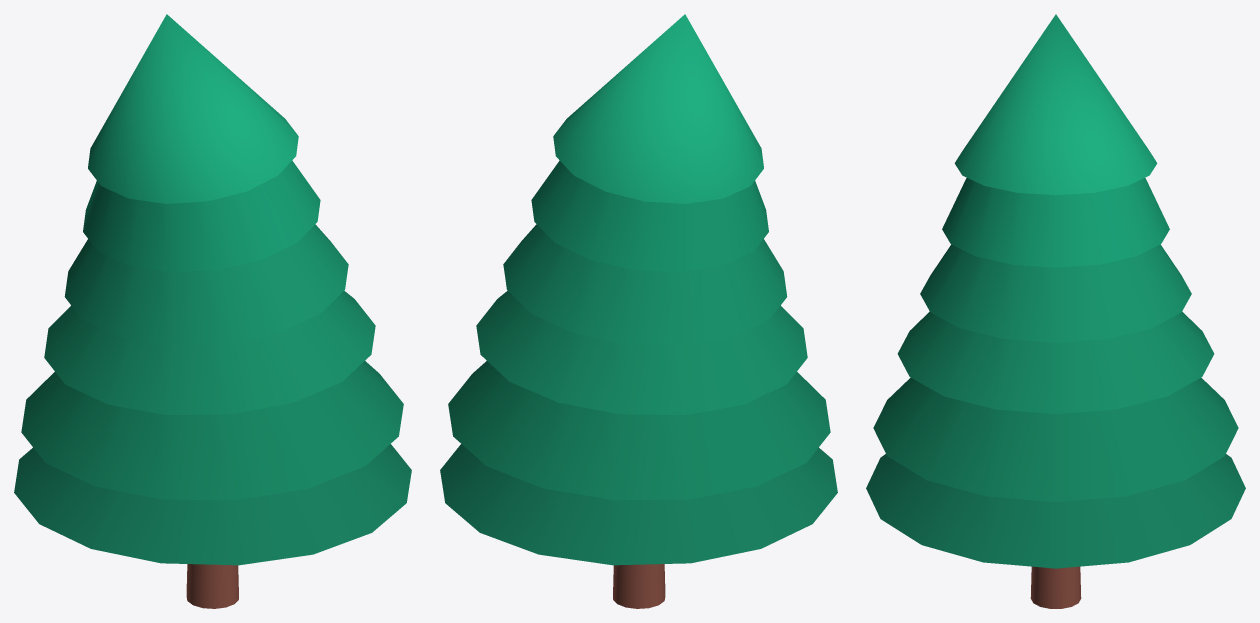
File: Spruce_Cold_Turquoise_Thick_3.fbx
3 views of the same model, side by side, from view 1: azimuth 30°, elevation 25°; view 2: azimuth 150°, elevation 25°; view 3: azimuth 270°, elevation 25° (orthographic). The views are drawn at different scales.
Visible parts, largest first — view 1: Cylinder.175, Cylinder.174, Cylinder.176, Cylinder.177, Cylinder.179, Cylinder.178, Cylinder.173; view 2: Cylinder.175, Cylinder.174, Cylinder.176, Cylinder.177, Cylinder.179, Cylinder.178, Cylinder.173; view 3: Cylinder.175, Cylinder.174, Cylinder.177, Cylinder.176, Cylinder.179, Cylinder.178, Cylinder.173.
Part boxes in pixels (box(x1,y1,x2,y2)): Cylinder.175: box(21, 361, 403, 500); Cylinder.174: box(14, 444, 411, 565); Cylinder.176: box(88, 14, 298, 203); Cylinder.177: box(44, 290, 375, 414); Cylinder.179: box(64, 224, 348, 345); Cylinder.178: box(83, 160, 320, 272); Cylinder.173: box(186, 564, 238, 608); Cylinder.175: box(448, 361, 830, 500); Cylinder.174: box(440, 444, 837, 565); Cylinder.176: box(553, 14, 763, 203); Cylinder.177: box(476, 290, 807, 414); Cylinder.179: box(503, 224, 787, 345); Cylinder.178: box(531, 160, 768, 272); Cylinder.173: box(613, 564, 665, 608); Cylinder.175: box(873, 377, 1238, 501); Cylinder.174: box(866, 454, 1245, 568); Cylinder.177: box(897, 311, 1214, 413); Cylinder.176: box(954, 14, 1157, 195); Cylinder.179: box(920, 244, 1191, 342); Cylinder.178: box(942, 178, 1169, 267); Cylinder.173: box(1030, 566, 1081, 608).
Size of the model in its own units: 349 by 571 by 349.
